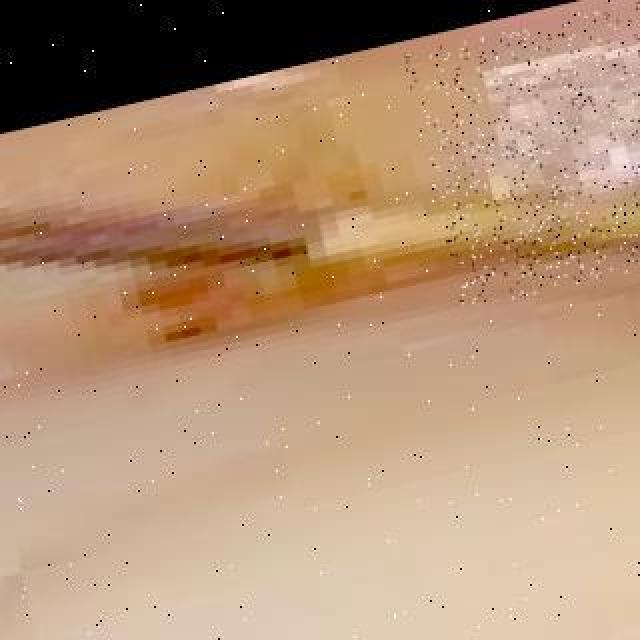plaque: (402, 0, 640, 306)
